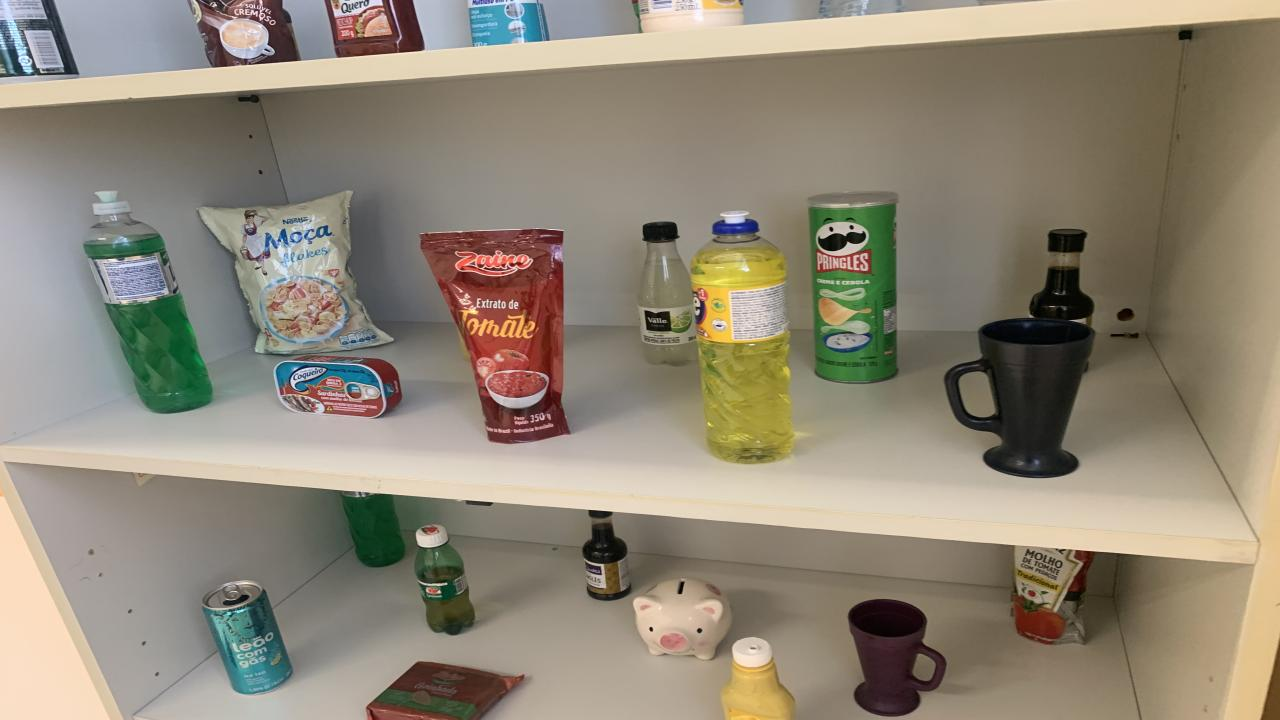Cleaner-Cleanup_Items: (468, 0, 550, 47)
Coffee-Pantry_Items: (190, 0, 300, 68)
Detergent-Cleanup_Items: (85, 191, 212, 412), (690, 212, 795, 463), (342, 493, 405, 566)
English_Sauce-Pantry_Items: (1030, 229, 1095, 326), (582, 510, 630, 600)
Flakes-Snacks: (198, 191, 392, 354)
Guarana-Drinks: (415, 525, 475, 636)
Guava-Snacks: (368, 662, 525, 720)
Ketchup-Pantry_Items: (325, 0, 425, 56)
Mayonnaise-Pantry_Items: (638, 0, 742, 32)
Mustard-Pantry_Items: (720, 638, 795, 720)
Pig_Safe-Miscellaneous: (632, 578, 732, 660)
Pringles-Snacks: (808, 191, 898, 382)
Soda-Drinks: (638, 221, 698, 366)
Tea-Drinks: (202, 579, 292, 694)
Tomato_Sauce-Pantry_Items: (420, 229, 570, 442), (1012, 548, 1095, 645)
Tuna_Can-Pantry_Items: (272, 356, 402, 418)
Water_Bottle-Drinks: (818, 0, 905, 19)
